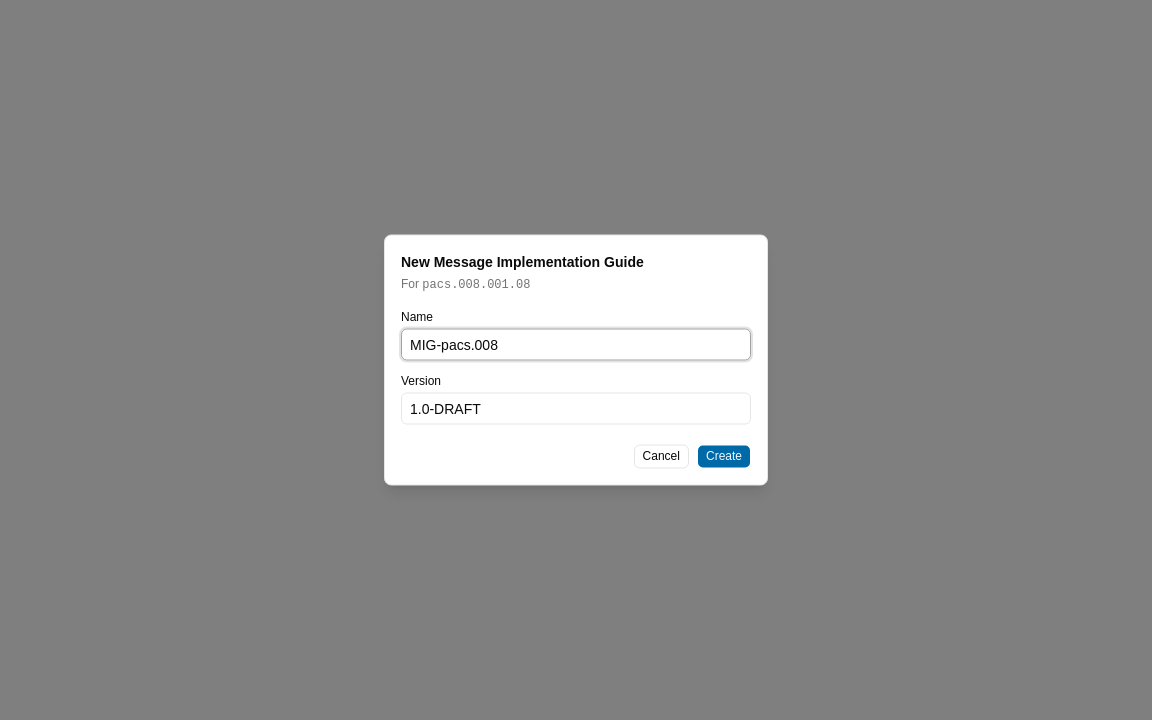
CreateMigDialog › rejects a duplicate name:version
Click the button "Create" at x=724, y=456, box [697,444,751,468]
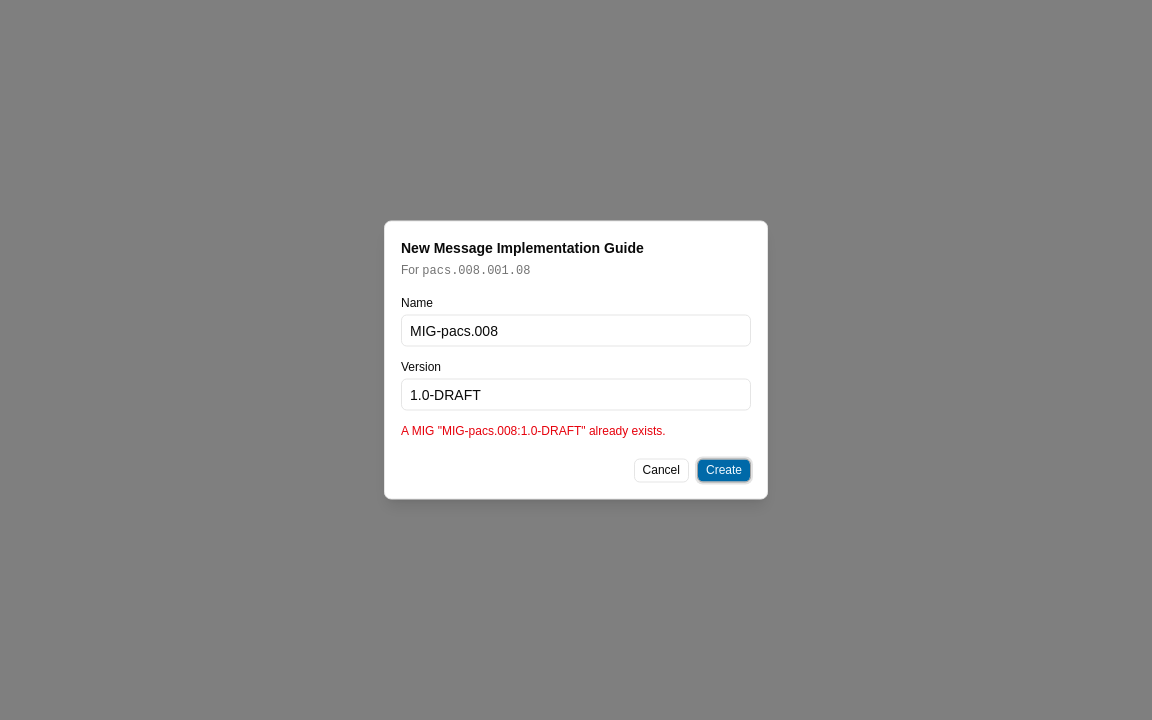
Expected: the message shows "already exists", [401,424,666,438]
